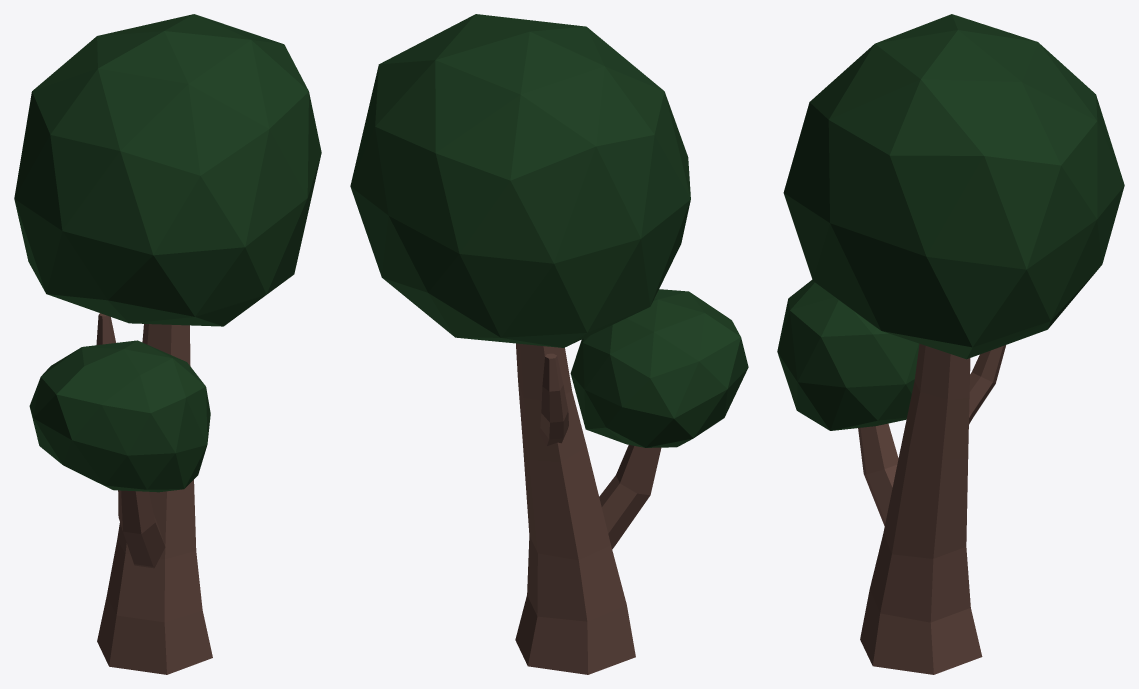
Rendered from ForestTree(2).fbx.
The picture shows the model from 3 angles, left to right: view 1: azimuth 30°, elevation 25°; view 2: azimuth 150°, elevation 25°; view 3: azimuth 270°, elevation 25°; orthographic projection. The views are drawn at different scales.
Visible parts, largest first — view 1: ForestTree(2); view 2: ForestTree(2); view 3: ForestTree(2).
Part boxes in pixels (x1,y1,x2,y2): ForestTree(2): (14,14,321,674); ForestTree(2): (350,14,748,674); ForestTree(2): (777,14,1124,674).
Size of the model in its own units: 2.97 by 5.61 by 2.79.
